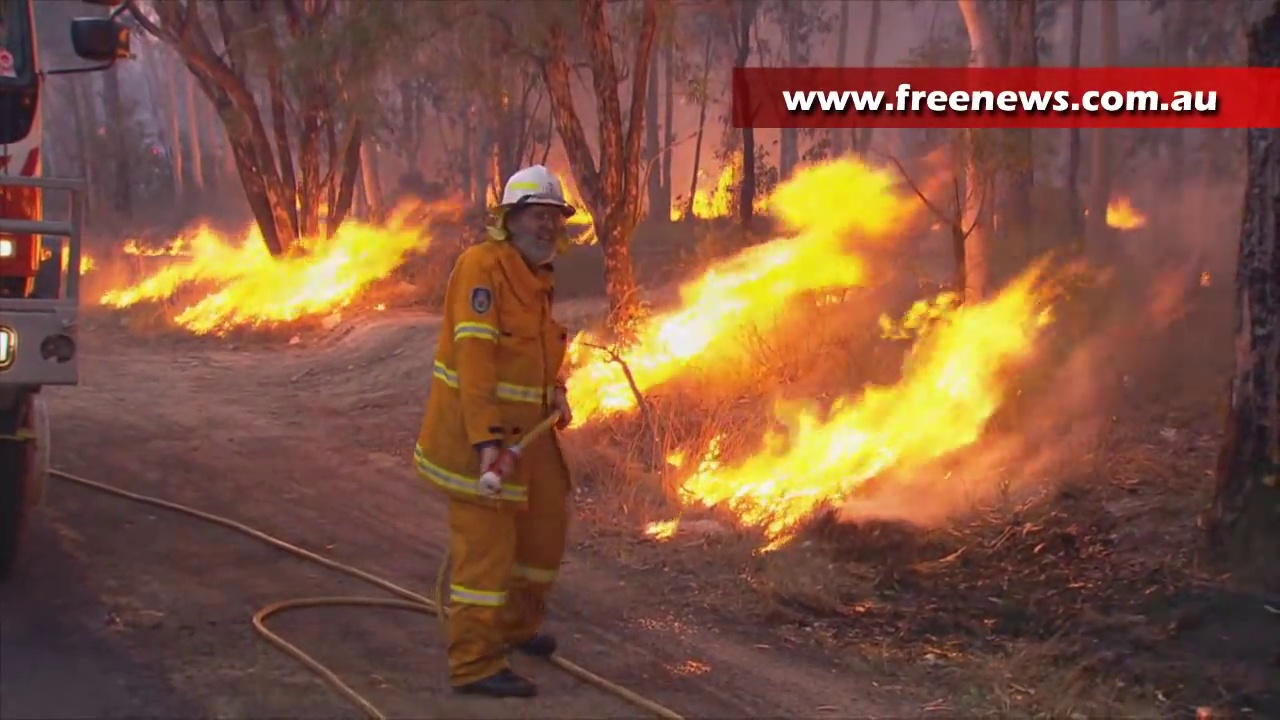fire: (679, 285, 1064, 543), (565, 153, 900, 423), (101, 217, 416, 332), (696, 164, 736, 214), (1107, 197, 1141, 233)
